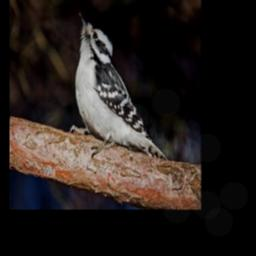Woodpecker: (66, 8, 166, 159)
